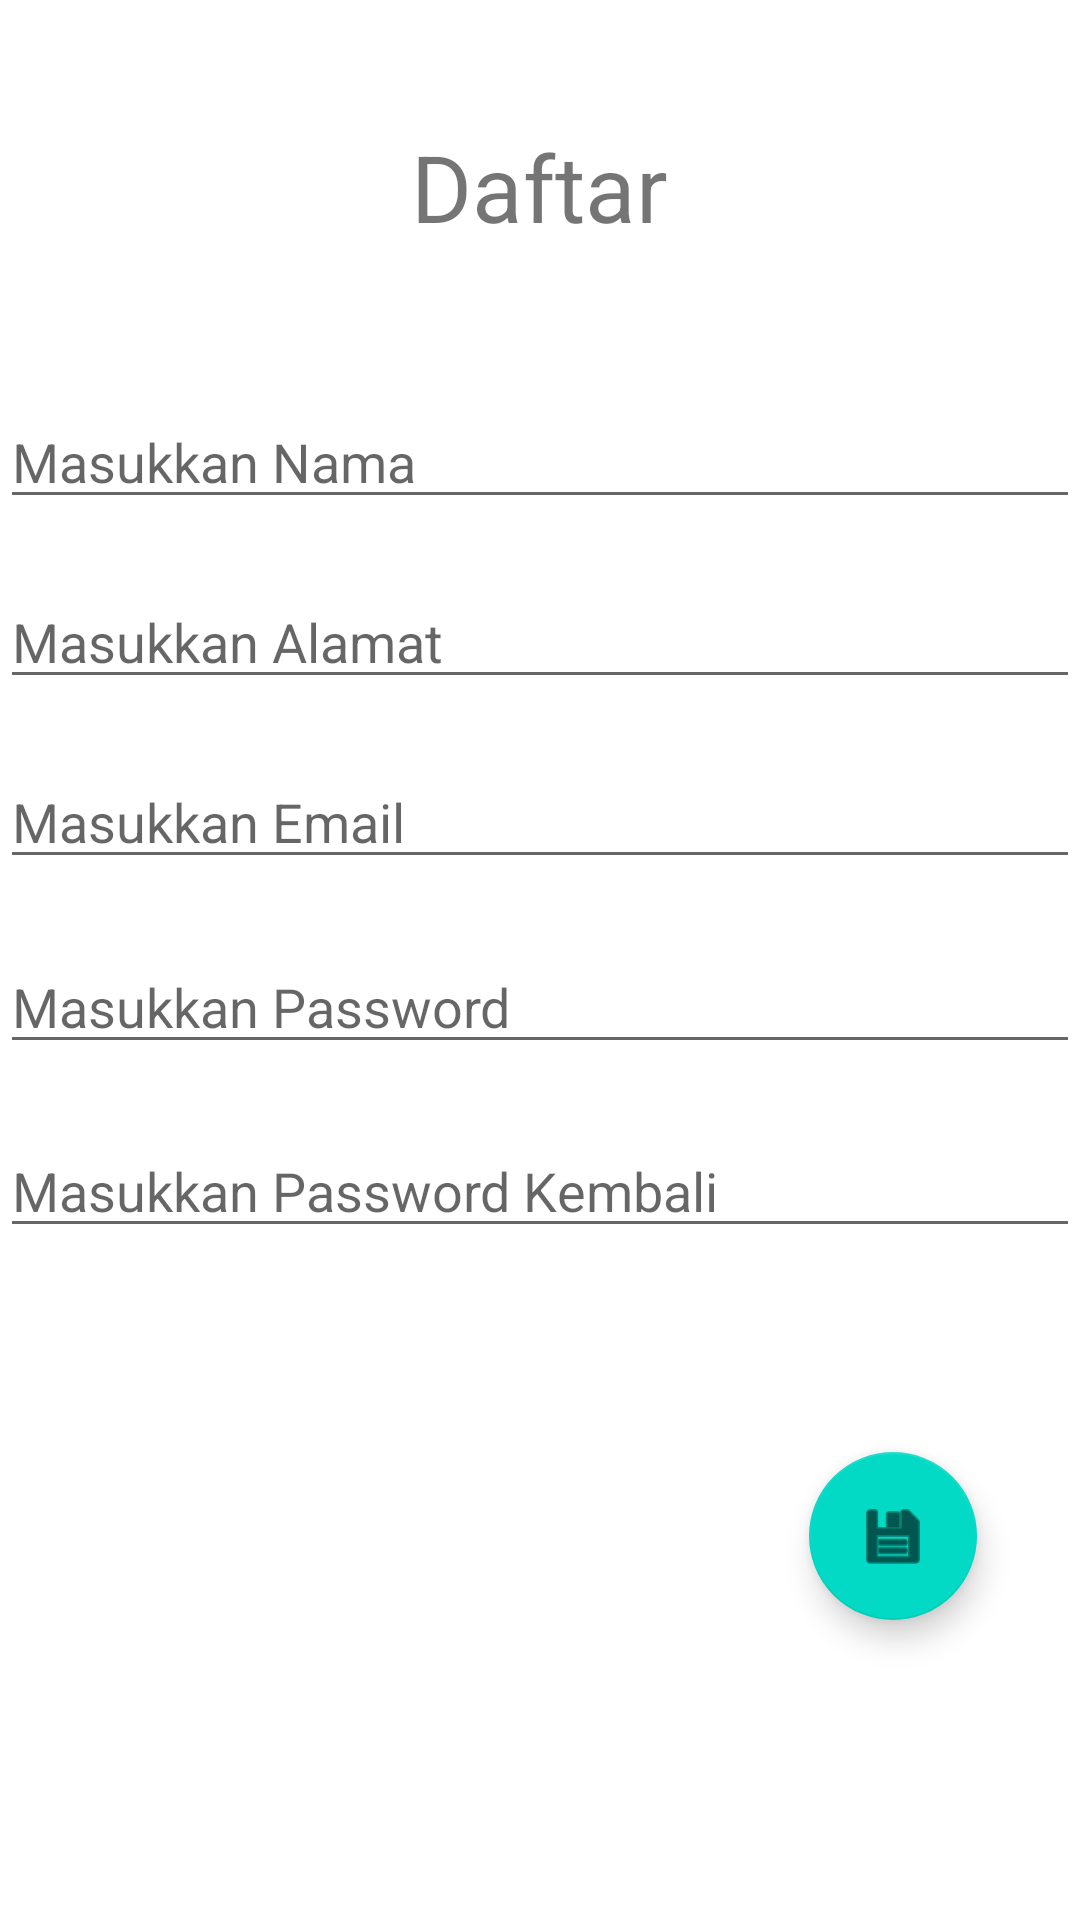

Icons on this 1080w x 1920h Android screen, each with its box as rect(x1, y1, x2, y2):
save: rect(809, 1452, 977, 1620)
